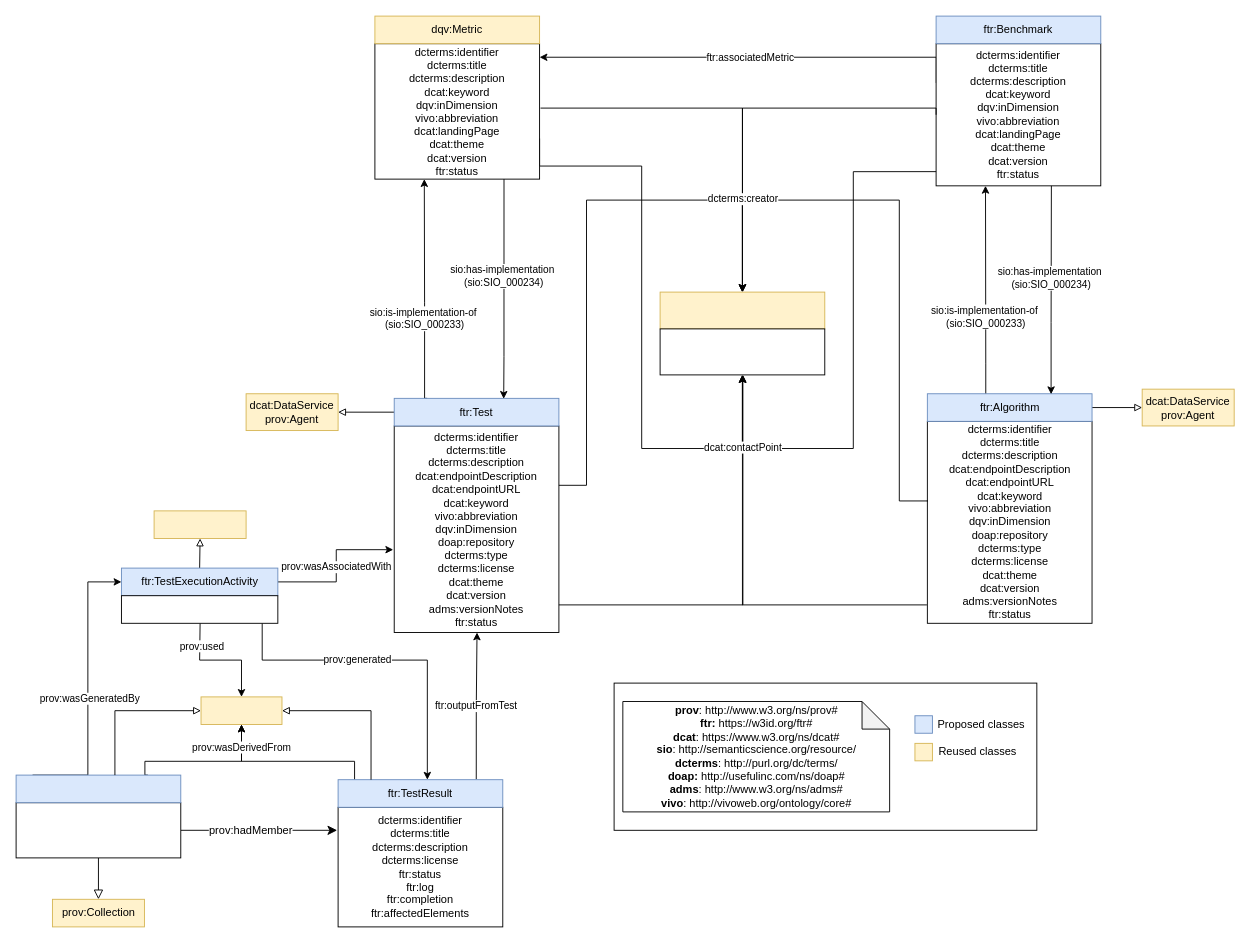
The diagram is 1250 pixels wide and 943 high, and some of its shapes have lost their labels. Here are the shapes that lost their labels. From the top down, the centre of each, then its label:
(x=742, y=310): vcard:Individual vcard.Organization
(x=742, y=351): vcard:fn vcard:organization-name vcard:hasEmail
(x=199, y=524): prov:Activity
(x=241, y=710): prov:Entity
(x=98, y=788): ftr:TestResultSet
(x=98, y=830): dcterms:identifier dcterms:title dcterms:license
